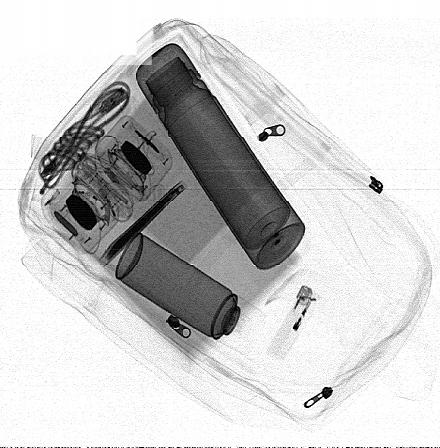Lighter: (267, 285, 319, 363)
Powerbank: (99, 180, 190, 265)
Sprayer: (116, 232, 273, 362)
